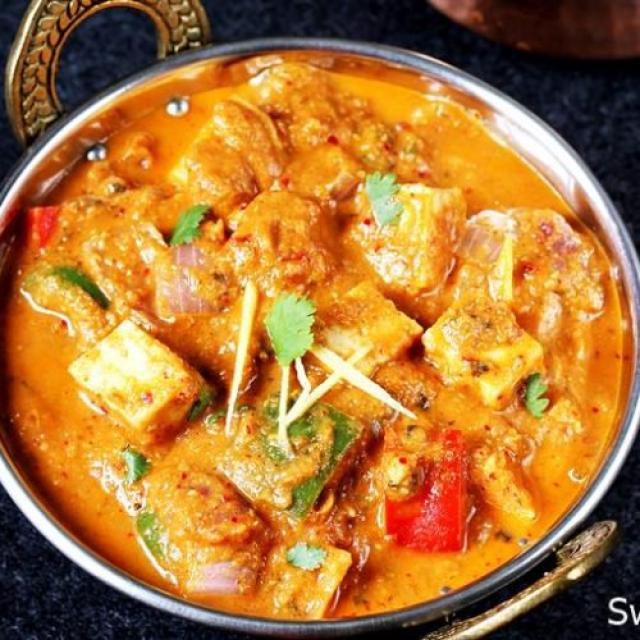panneer: (47, 142, 579, 566)
